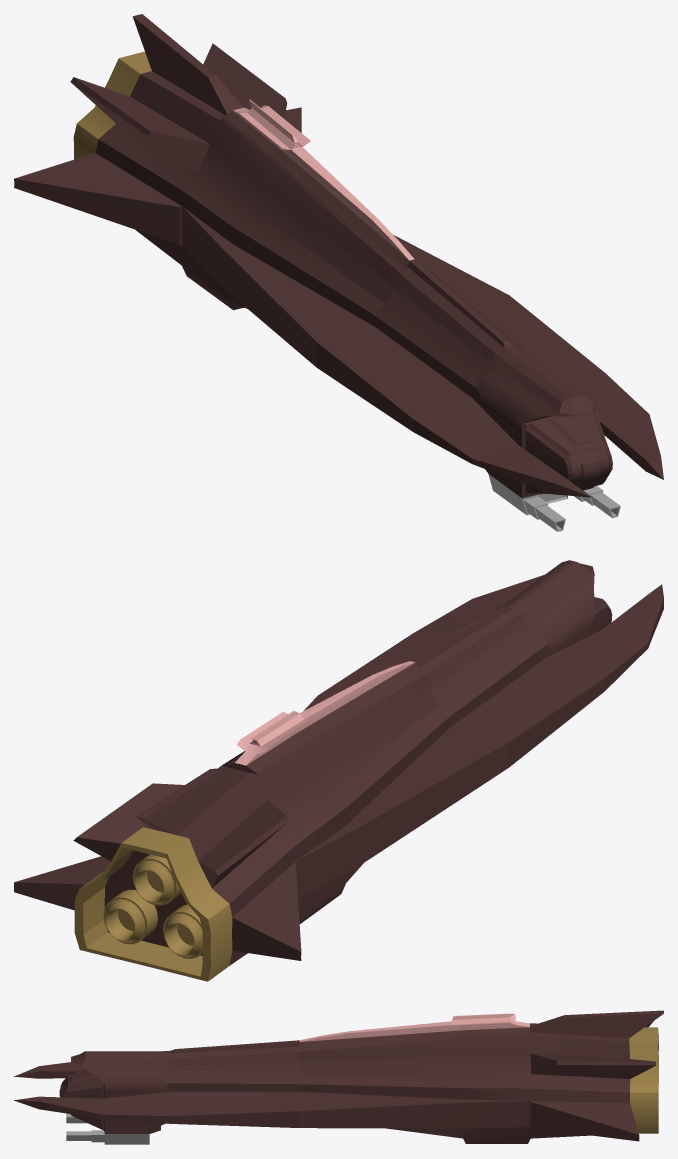
The model's file is EnemyCapitalSHipUV.fbx.
3 renders of one model, top to bottom at view 1: azimuth 30°, elevation 25°; view 2: azimuth 150°, elevation 25°; view 3: azimuth 270°, elevation 25°, orthographic. The views are drawn at different scales.
Visible parts, largest first — view 1: polySurface15, TopThing, ThrustersEnemyCapitalShip, Canons; view 2: polySurface15, ThrustersEnemyCapitalShip, TopThing; view 3: polySurface15, ThrustersEnemyCapitalShip, TopThing, Canons.
Part boxes in pixels (box(x1,y1,x2,y2)): polySurface15: box(14, 14, 663, 498); TopThing: box(233, 99, 414, 260); ThrustersEnemyCapitalShip: box(73, 51, 151, 159); Canons: box(488, 474, 620, 531); polySurface15: box(14, 560, 663, 965); ThrustersEnemyCapitalShip: box(74, 827, 232, 981); TopThing: box(235, 661, 414, 765); polySurface15: box(14, 1010, 663, 1143); ThrustersEnemyCapitalShip: box(629, 1027, 658, 1133); TopThing: box(299, 1013, 529, 1041); Canons: box(66, 1113, 149, 1144).
Bounding box in the file's own units: 594 × 367 × 1745.
